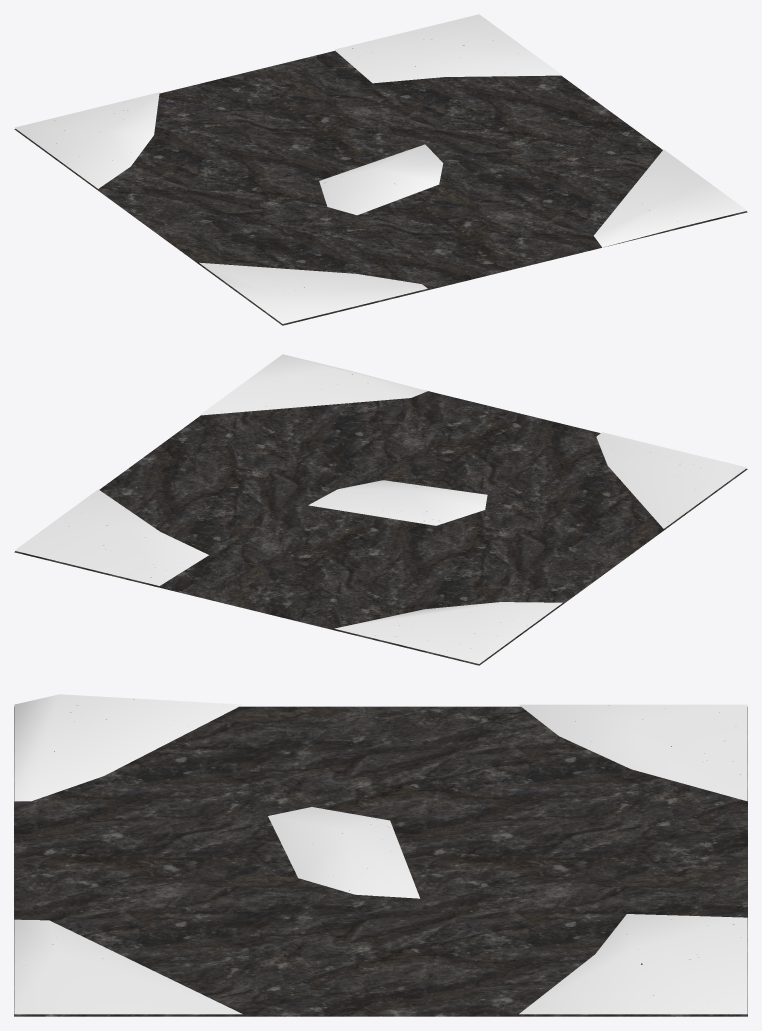
File: Garden_09_Art.glb
3 renders of one model, top to bottom at view 1: azimuth 30°, elevation 25°; view 2: azimuth 150°, elevation 25°; view 3: azimuth 270°, elevation 25°, orthographic. The views are drawn at different scales.
Visible parts, largest first — view 1: Garden_09_Art; view 2: Garden_09_Art; view 3: Garden_09_Art.
Boxes of the visible parts, <box> form: Garden_09_Art: <box>14,14,747,325</box>; Garden_09_Art: <box>14,354,747,665</box>; Garden_09_Art: <box>14,694,747,1016</box>.
Bounding box in the file's own units: 15.98 × 0.5007 × 15.98.
Materials: 2 (2 with a texture image).
